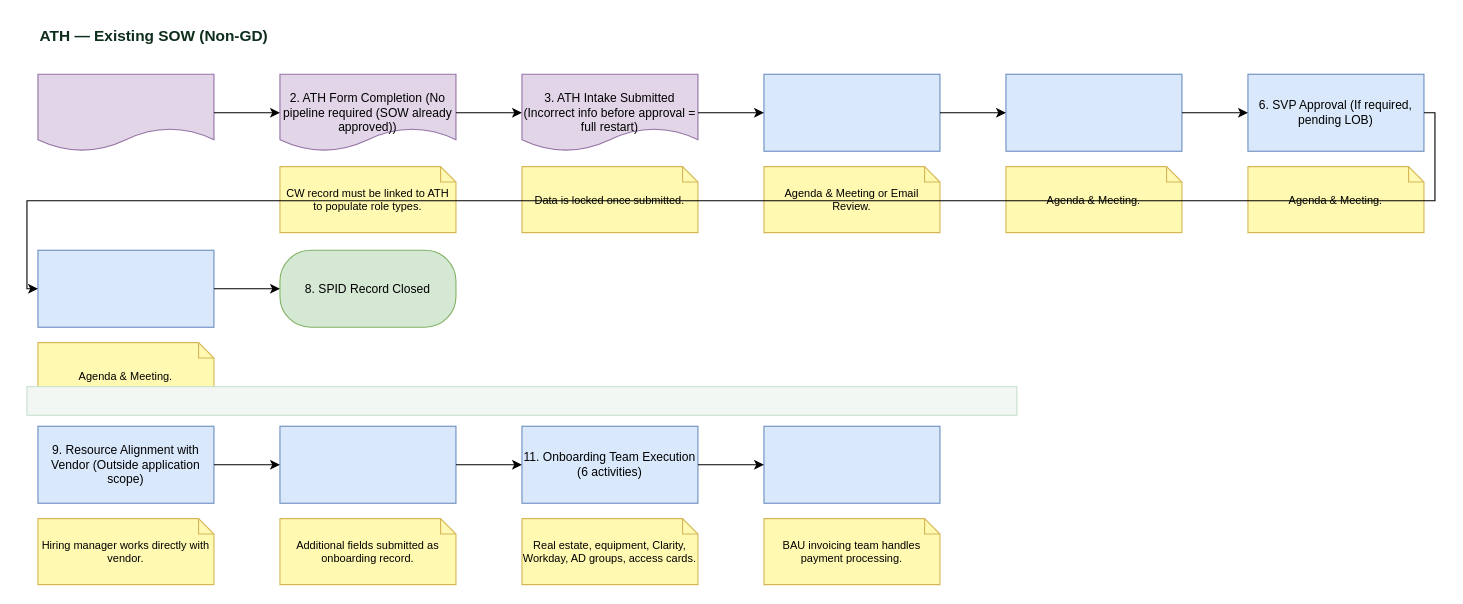
This 1463x604 diagram has some shape labels left out. Each missing label, with the centre of its shape:
"1. EMS Intake Triage (User enters EMS)" goes at [125,112].
"10. Onboarding Record Creation (ATH# carried forward, locked)" goes at [367,464].
"12. BAU Invoicing (Separate expense entry)" goes at [851,464].
"4. AVP Approval" goes at [851,112].
"5. VP Approval" goes at [1093,112].
"7. EVP Approval (If required, pending LOB)" goes at [125,288].
"PHASE: Post-Approval Execution (Outside EMS)" goes at [521,400].
